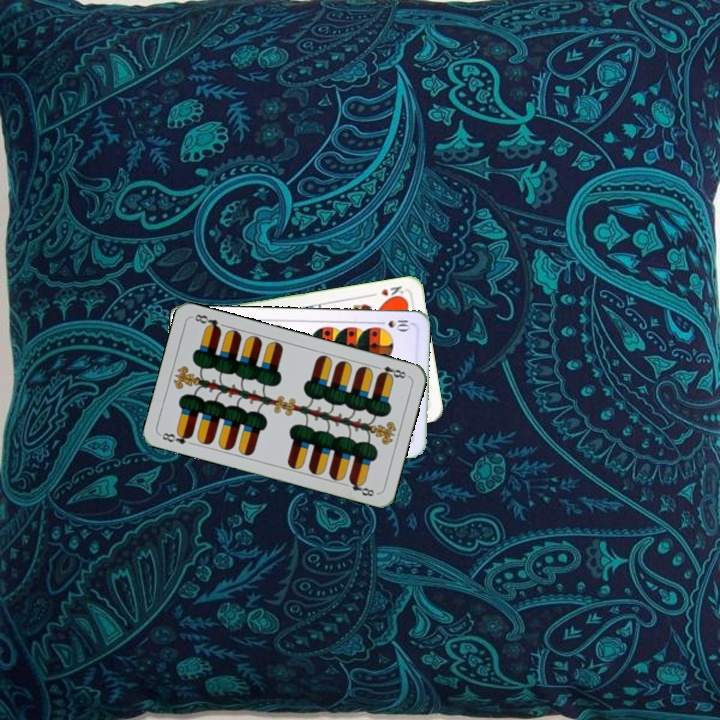E8: (371, 362, 411, 381), (157, 427, 195, 447)
HK: (376, 282, 406, 303)
S10: (373, 316, 412, 333)
